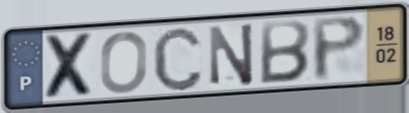B: (257, 18, 313, 86)
C: (150, 23, 205, 94)
N: (206, 20, 256, 88)
O: (98, 29, 150, 95)
P: (309, 13, 368, 83)
X: (42, 30, 99, 101)
